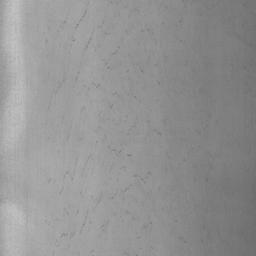Silk spot: (134, 171, 151, 184), (61, 232, 75, 239), (252, 182, 256, 202)
